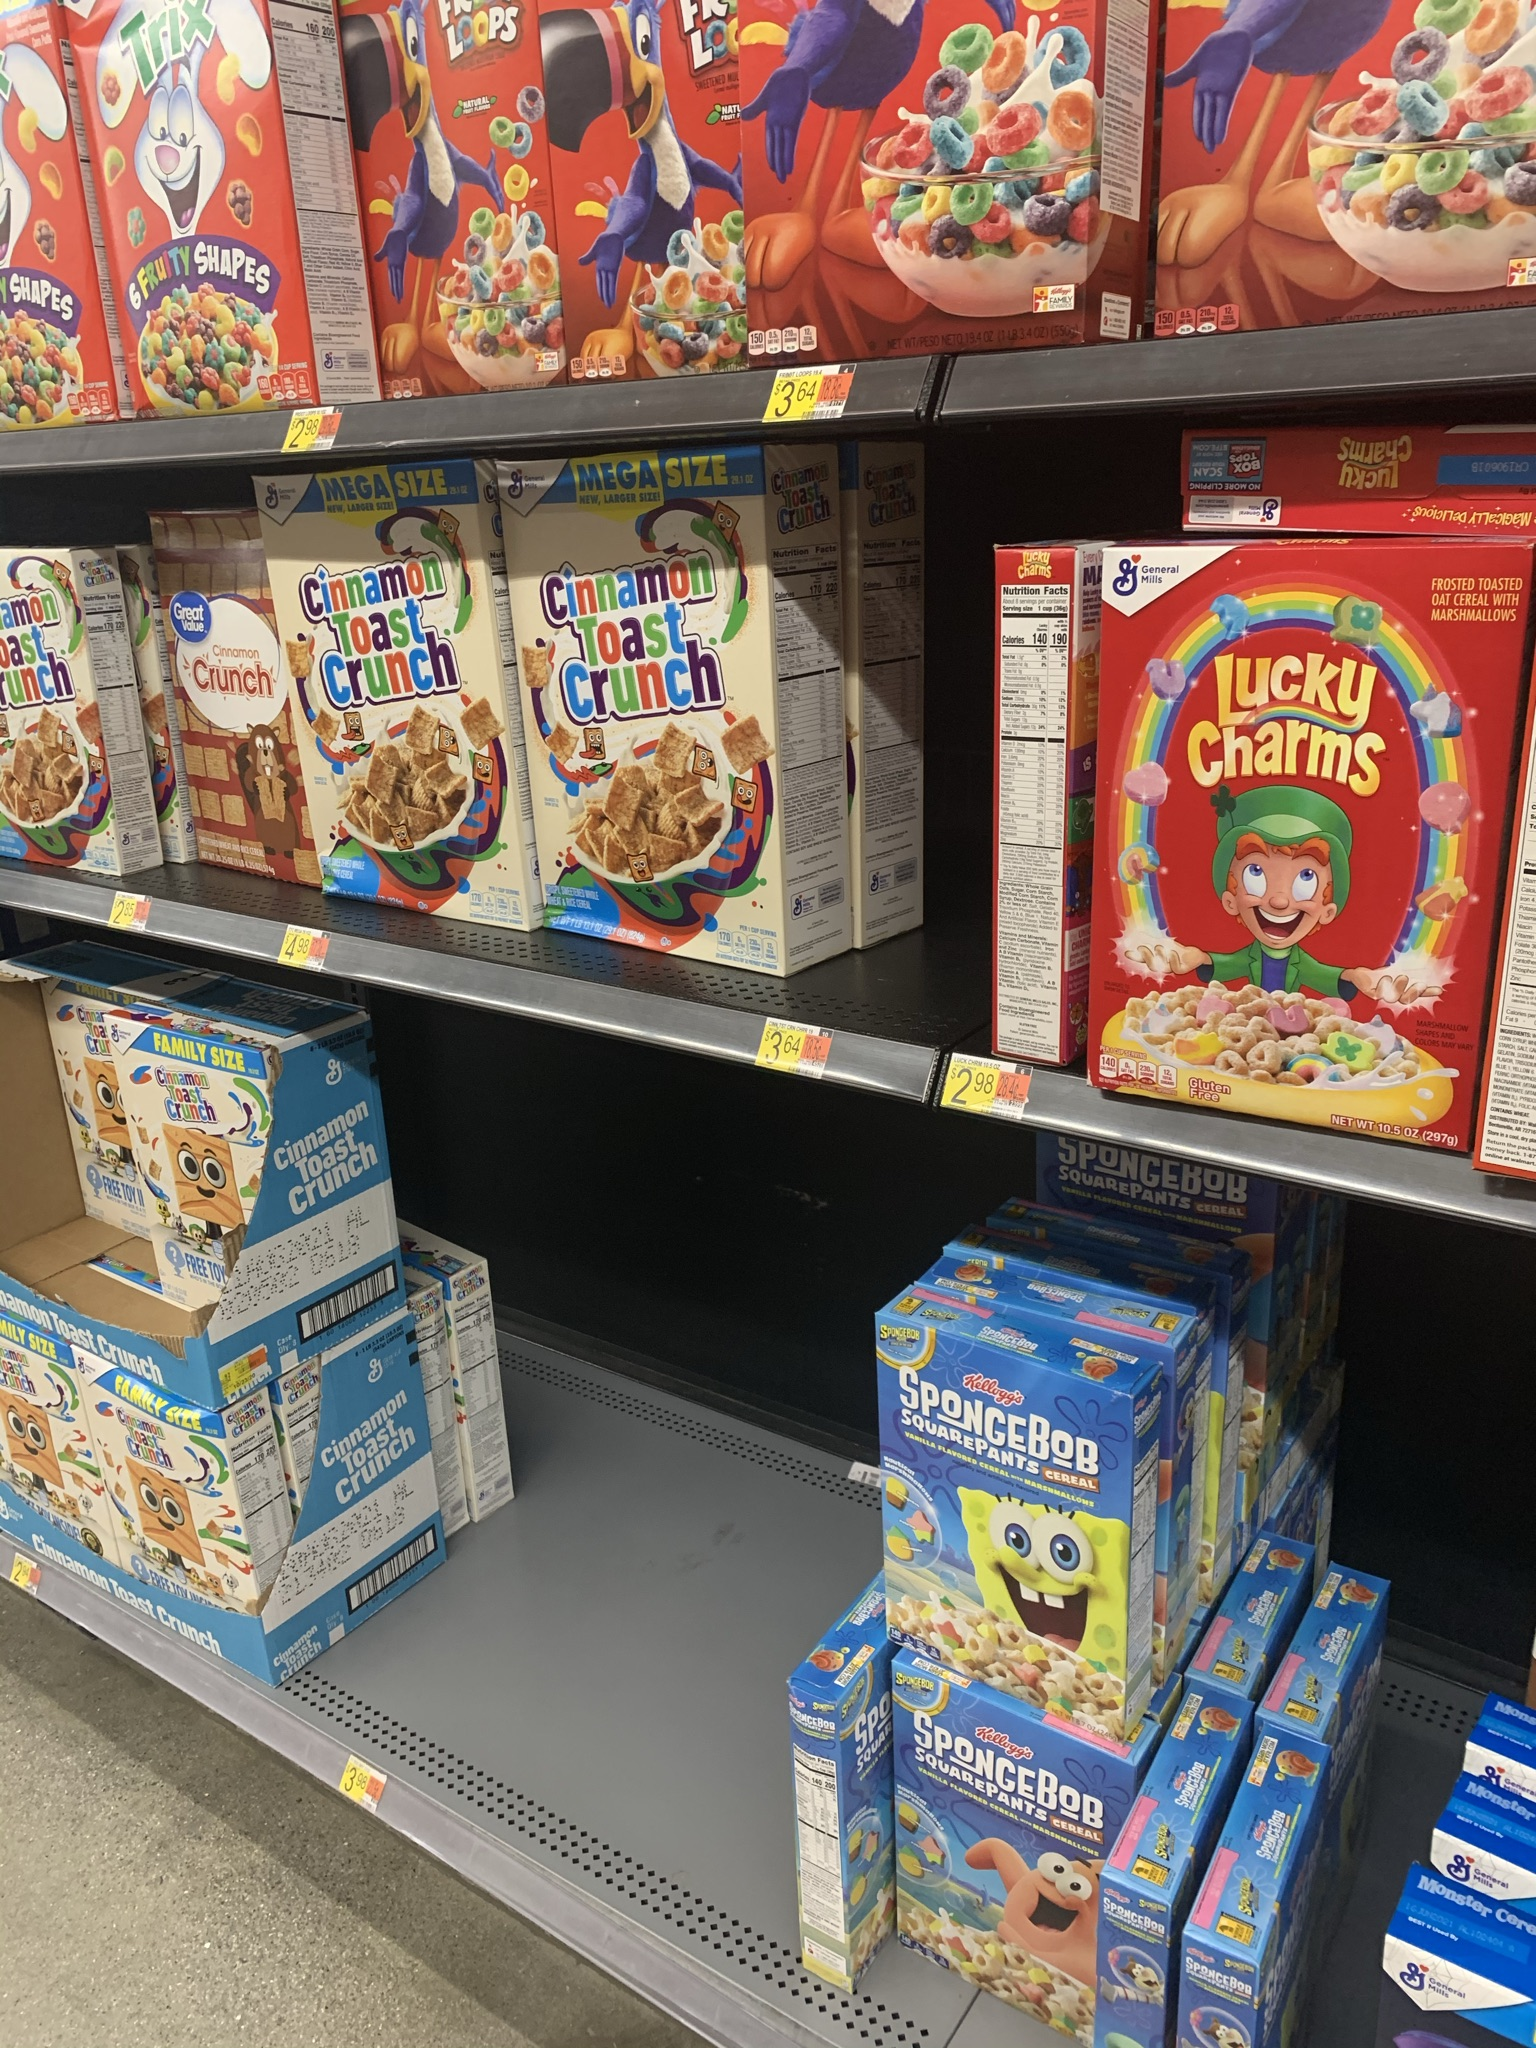box: (1125, 564, 1480, 1122), (531, 474, 787, 926), (307, 487, 516, 892), (110, 13, 276, 405), (900, 1334, 1112, 1642), (558, 23, 741, 366), (376, 15, 528, 390), (907, 1742, 1092, 1942), (119, 1034, 245, 1213), (102, 1408, 223, 1567), (795, 1692, 845, 1988)
